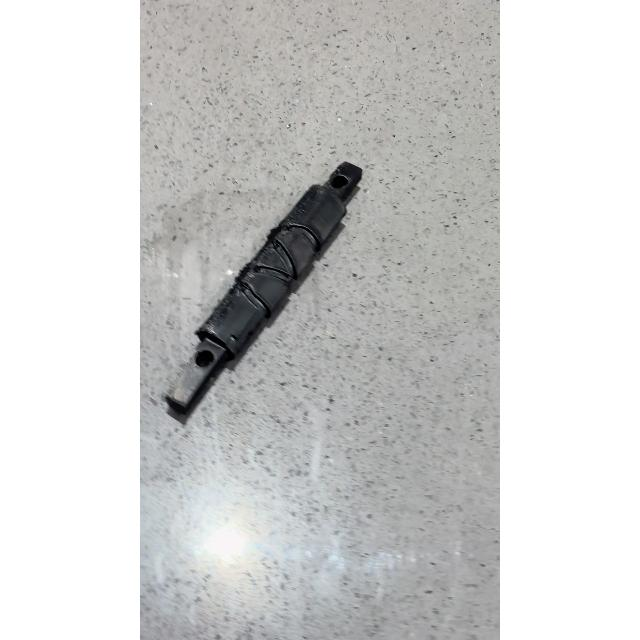Pieza_1: (160, 144, 372, 430)
